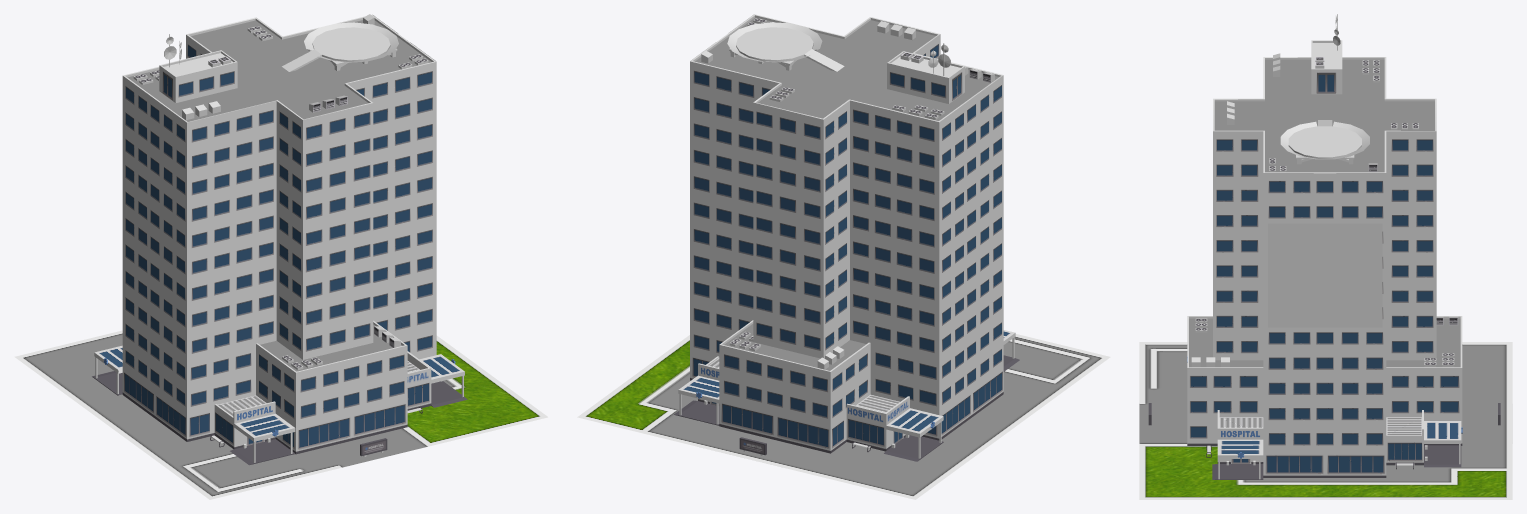
Rendered from Hospital_Mega.fbx.
3 views of the same model, side by side, from view 1: azimuth 30°, elevation 25°; view 2: azimuth 150°, elevation 25°; view 3: azimuth 270°, elevation 25° (orthographic). The views are drawn at different scales.
Visible parts, largest first — view 1: Hospital_Mega, Hospital_BG_Mega, HelicopterPlace, HelicopterPlace_Alpha_DoubleSided; view 2: Hospital_Mega, Hospital_BG_Mega, HelicopterPlace, HelicopterPlace_Alpha_DoubleSided; view 3: Hospital_Mega, Hospital_BG_Mega, Graffiti_001, HelicopterPlace, HelicopterPlace_Alpha_DoubleSided.
Part boxes in pixels (x1,y1,x2,y2): Hospital_Mega: (92,14,467,465); Hospital_BG_Mega: (14,330,547,499); HelicopterPlace: (282,27,397,71); HelicopterPlace_Alpha_DoubleSided: (304,22,398,62); Hospital_Mega: (674,14,1019,461); Hospital_BG_Mega: (577,334,1110,499); HelicopterPlace: (729,27,844,71); HelicopterPlace_Alpha_DoubleSided: (727,22,822,62); Hospital_Mega: (1148,14,1500,479); Hospital_BG_Mega: (1139,342,1512,499); Graffiti_001: (1268,223,1382,327); HelicopterPlace: (1288,120,1361,164); HelicopterPlace_Alpha_DoubleSided: (1280,121,1369,159).
Bounding box in the file's own units: 4000 × 4224 × 3998.
